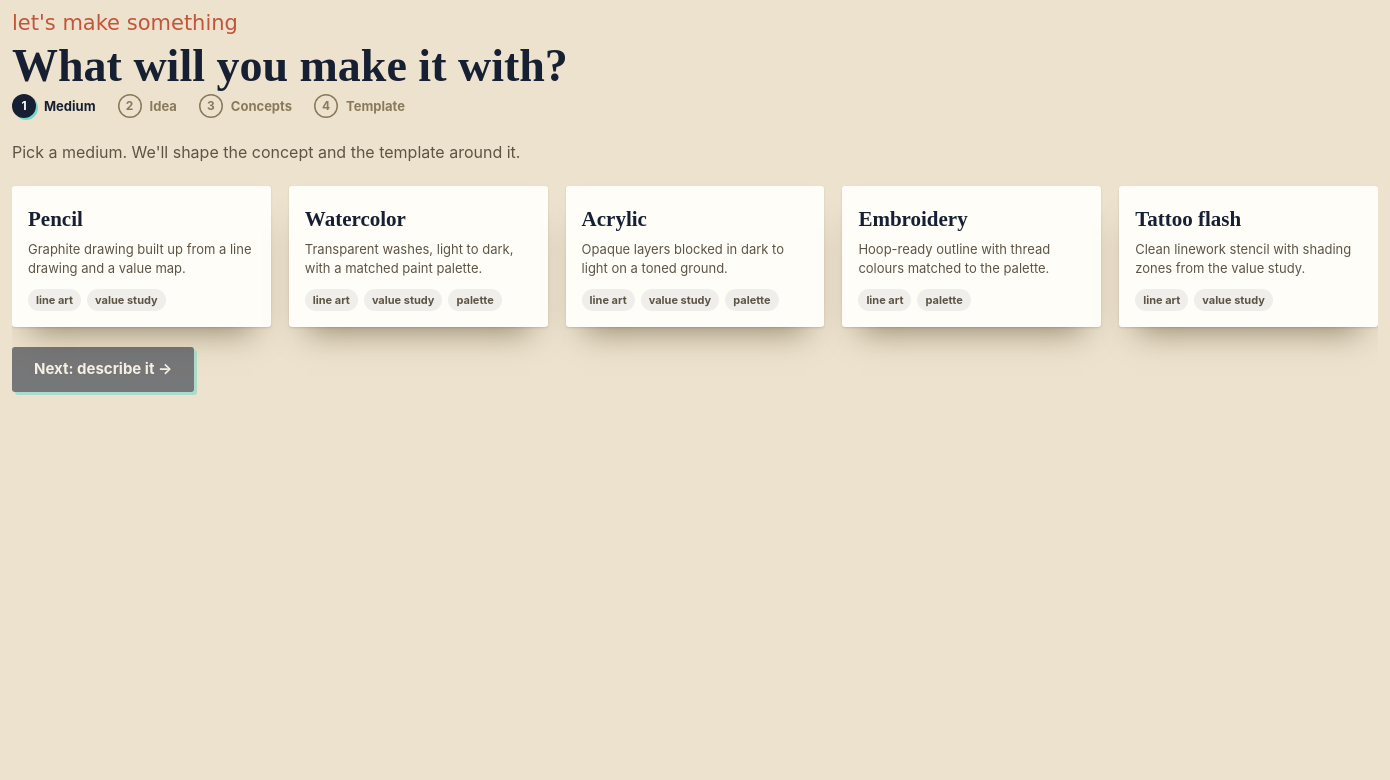
Test case: CreateFlow › selects a medium and enables the next step
Expected: the button "Next: describe it →" is disabled, [12,347,194,392]
Click the radio button labelled "Watercolor" at x=418, y=257, box [289,186,548,327]
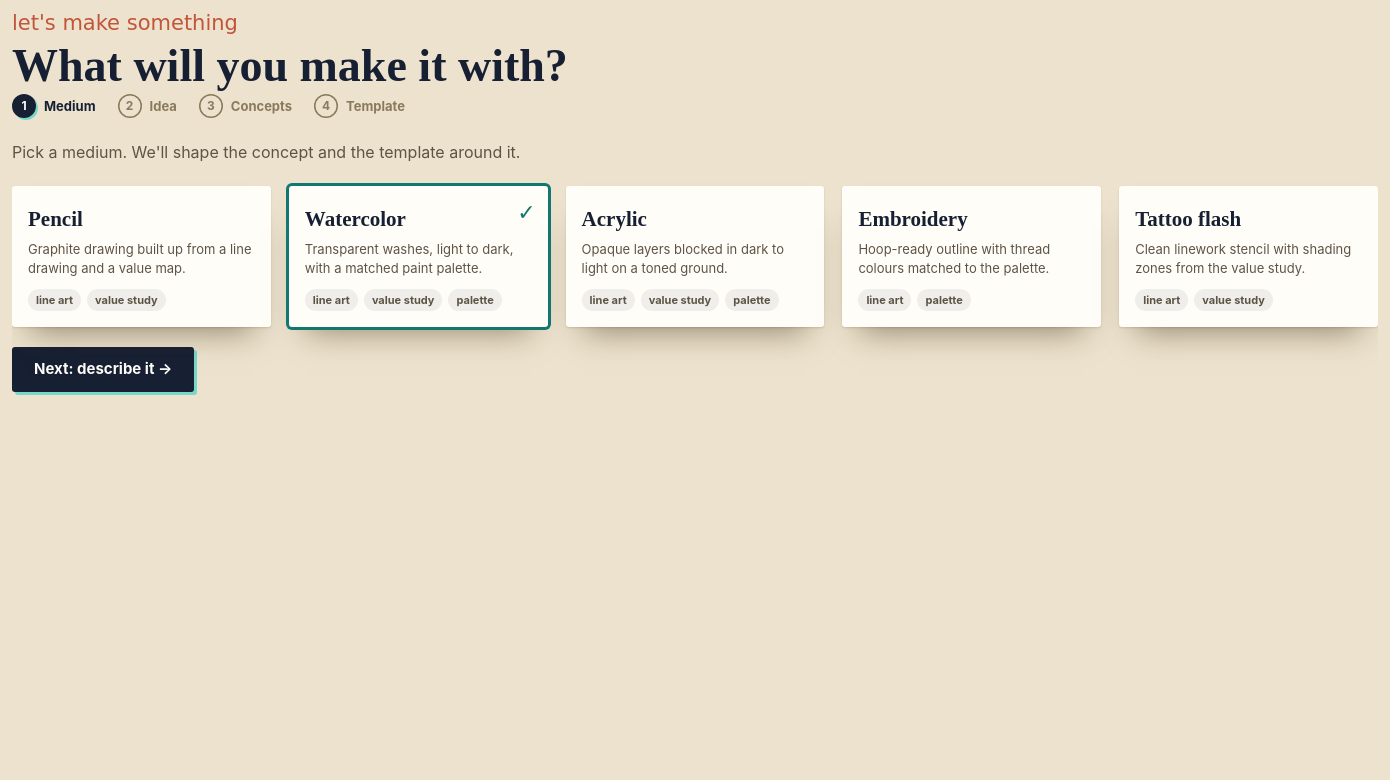
Expected: the button "Next: describe it →" is enabled
Click the button "Next: describe it →" at x=103, y=370, box [12,347,194,392]
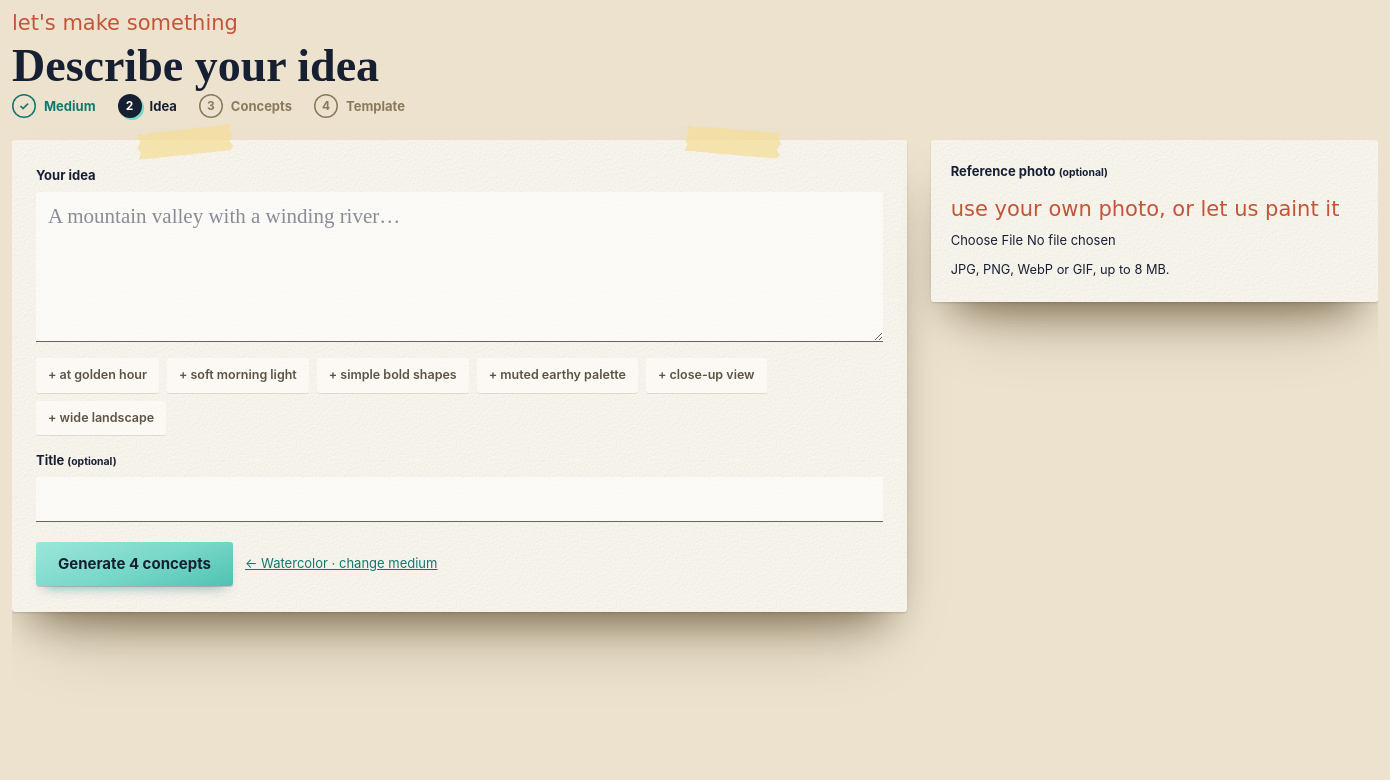
Expected: the text box labelled "Your idea" is shown, [36,192,883,342]
